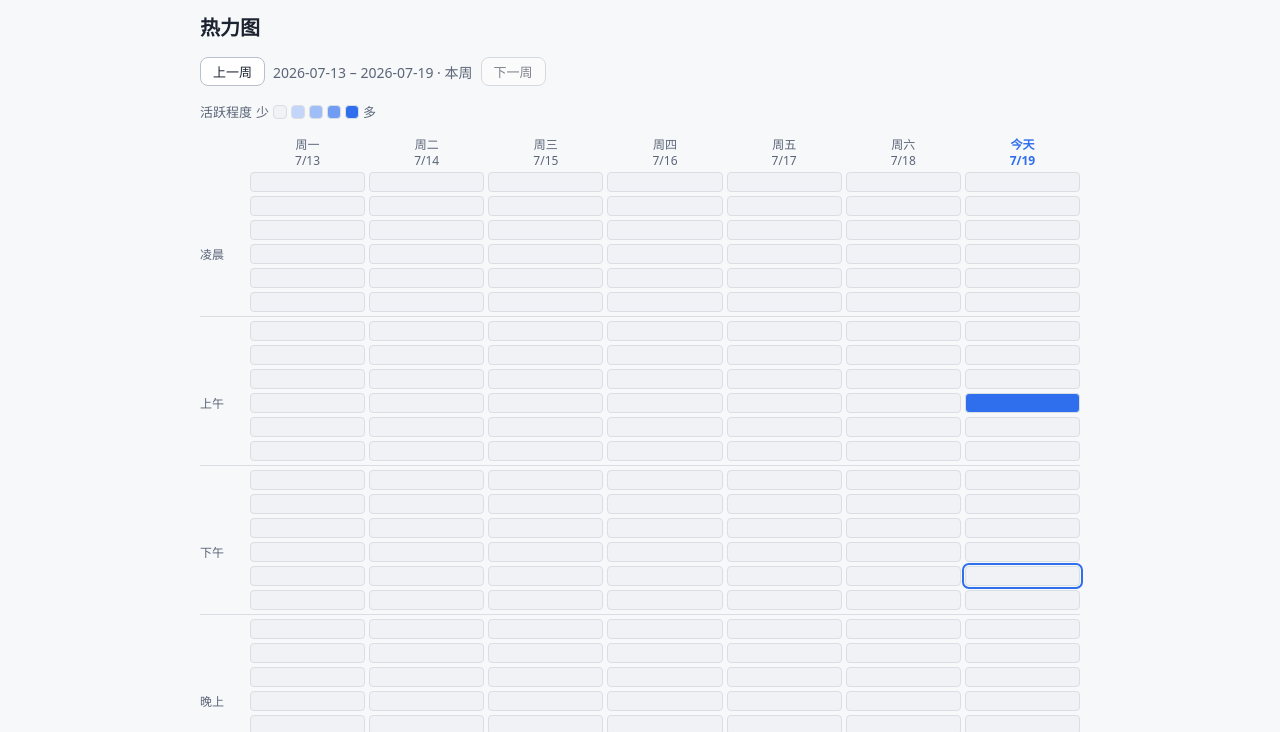
Test: Heatmap 页面 › 周导航 › 切换周查询失败：进入错误四态，不得保留旧周内容
Click the button "上一周" at (232,72), box [200,57,265,86]
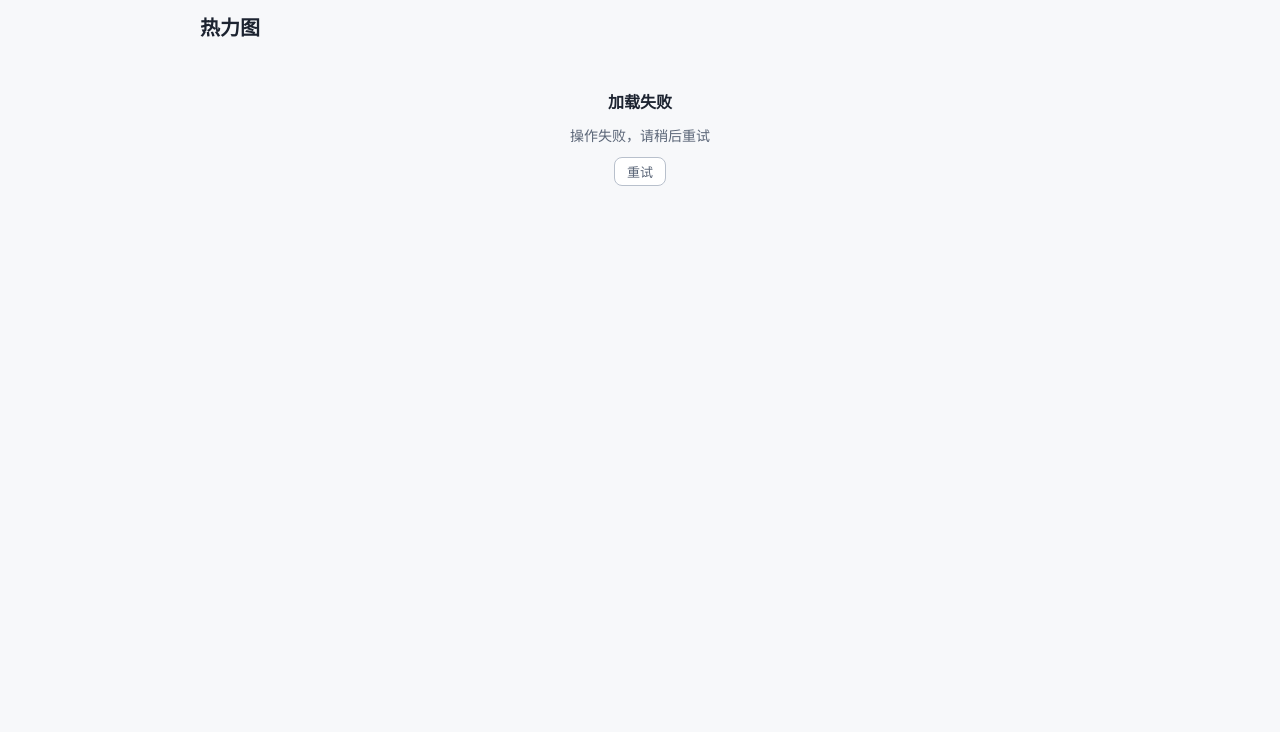
Result: the message "加载失败 操作失败，请稍后重试 重试" is shown at [570,91,710,186]
Result: the button "重试" is shown at [614,157,666,186]
